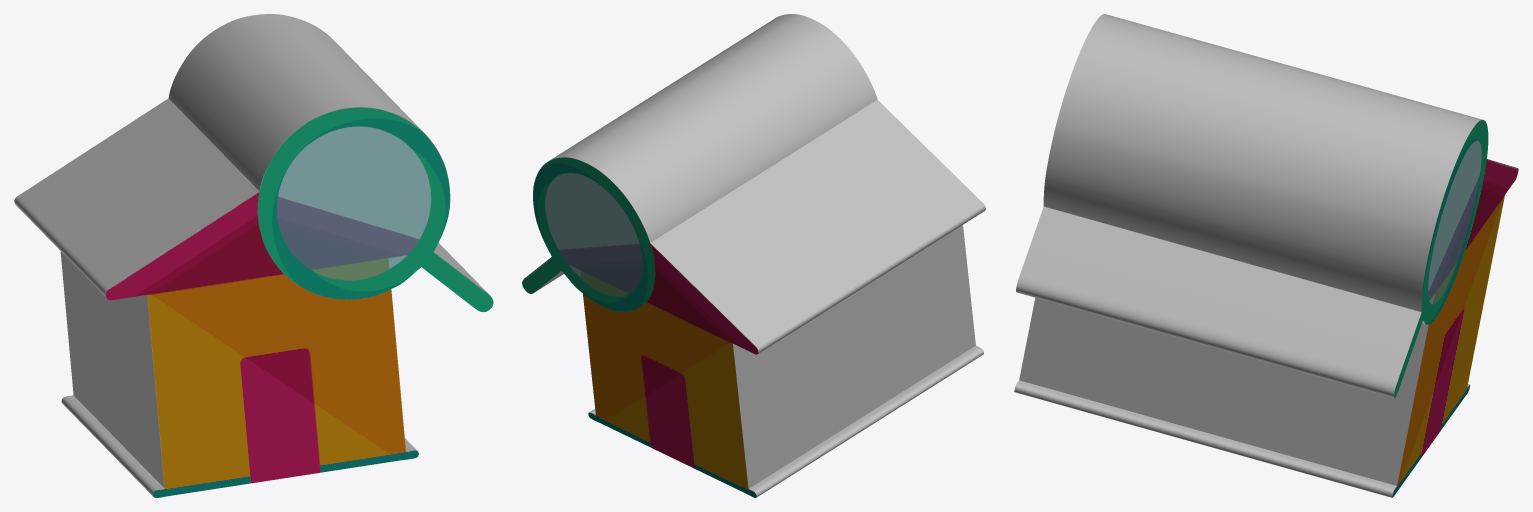
File: asset.glb
3 renders of one model, left to right at view 1: azimuth 30°, elevation 25°; view 2: azimuth 150°, elevation 25°; view 3: azimuth 270°, elevation 25°, orthographic. The views are drawn at different scales.
Parts seen in each view (by area): view 1: Layer 1; view 2: Layer 1; view 3: Layer 1.
Boxes of the visible parts, x1,y1,x2,y2 form: Layer 1: [14, 14, 493, 497]; Layer 1: [522, 14, 985, 497]; Layer 1: [1014, 14, 1518, 497].
Bounding box in the file's own units: 0.2457 × 0.2247 × 0.2409.
3 materials, 3 textured.
